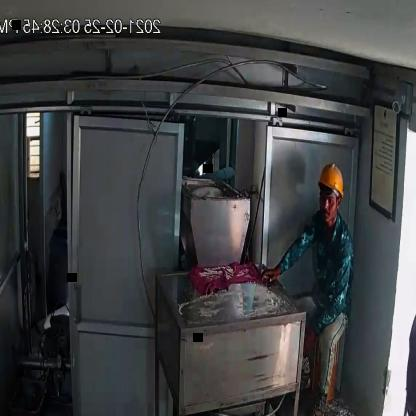helmet: (319, 158, 346, 199)
